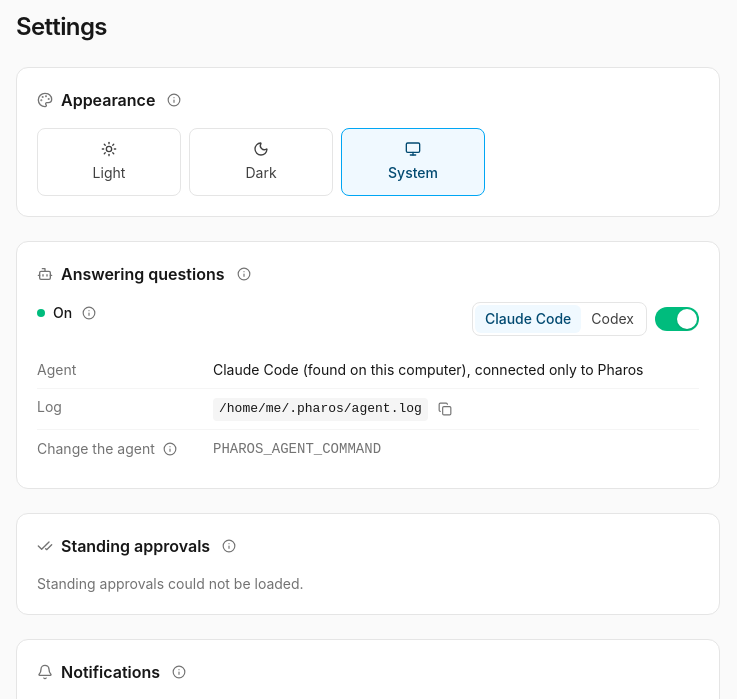
Test: settings › picks which installed agent answers
The width and height of the screenshot is (737, 699).
Click the radio button labelled "Codex": (613, 319) [581,305,644,333]
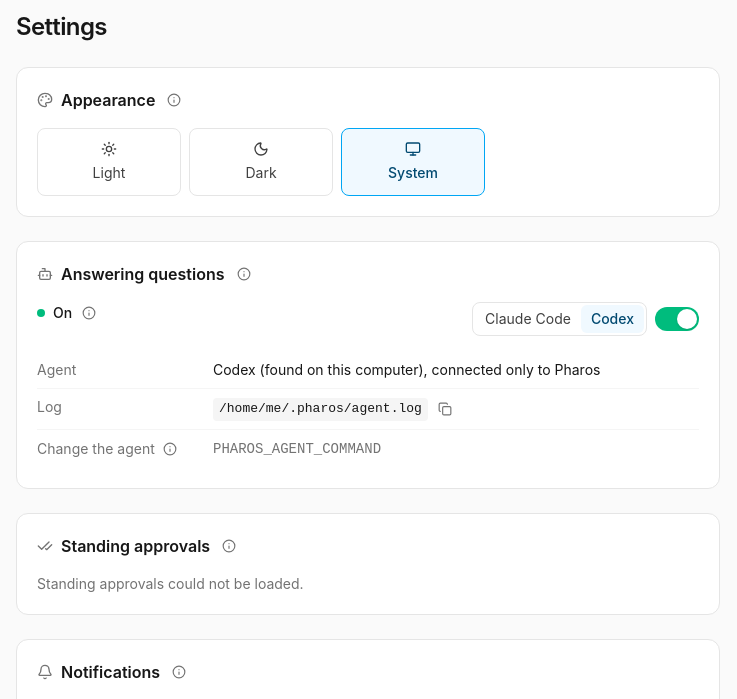
Check: the text "Codex (found on this computer), connected only to Pharos" is shown, box [213,361,600,378]
